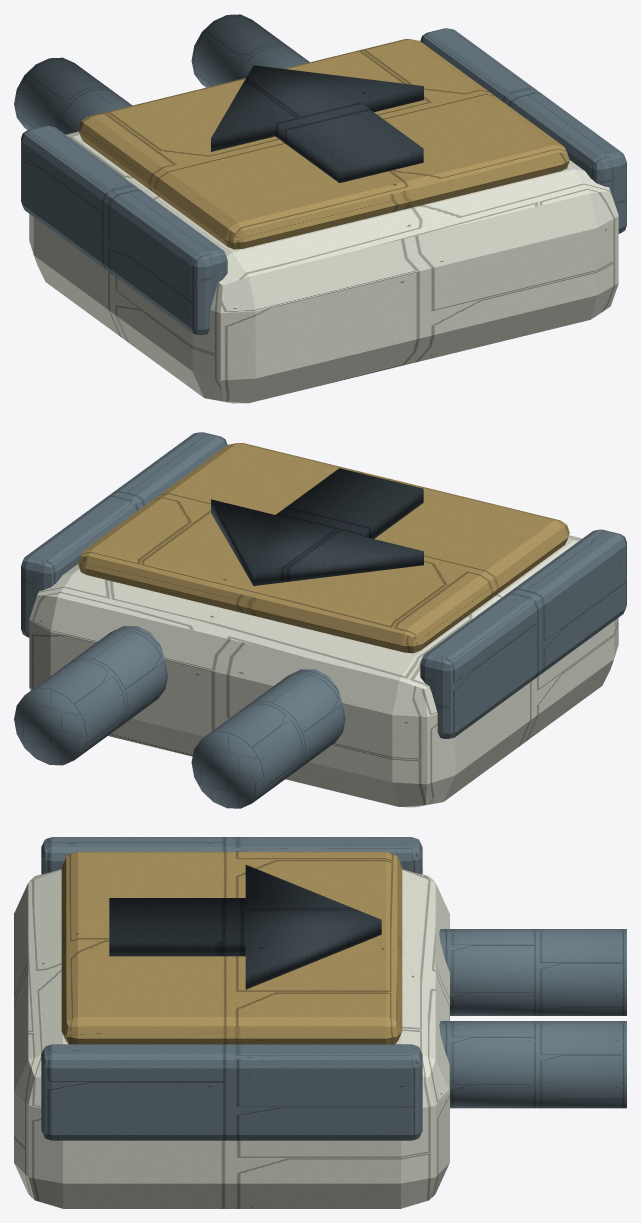
The model's file is power.glb.
The picture shows the model from 3 angles, top to bottom: view 1: azimuth 30°, elevation 25°; view 2: azimuth 150°, elevation 25°; view 3: azimuth 270°, elevation 25°; orthographic projection. The views are drawn at different scales.
Visible parts, largest first — view 1: core-ceramic-surfaces, core-brass-surfaces, core-titanium-surfaces, core-graphite-surfaces; view 2: core-ceramic-surfaces, core-titanium-surfaces, core-brass-surfaces, core-graphite-surfaces; view 3: core-titanium-surfaces, core-ceramic-surfaces, core-brass-surfaces, core-graphite-surfaces.
Boxes of the visible parts, left/top/right/bottom form: core-ceramic-surfaces: left=29, top=131, right=618, bottom=403; core-brass-surfaces: left=78, top=39, right=569, bottom=249; core-titanium-surfaces: left=14, top=14, right=626, bottom=335; core-graphite-surfaces: left=211, top=65, right=423, bottom=182; core-ceramic-surfaces: left=29, top=535, right=618, bottom=807; core-titanium-surfaces: left=14, top=432, right=626, bottom=808; core-brass-surfaces: left=78, top=443, right=569, bottom=653; core-graphite-surfaces: left=211, top=468, right=423, bottom=585; core-titanium-surfaces: left=41, top=837, right=626, bottom=1140; core-ceramic-surfaces: left=14, top=869, right=449, bottom=1208; core-brass-surfaces: left=61, top=851, right=402, bottom=1044; core-graphite-surfaces: left=109, top=865, right=381, bottom=989.
Size of the model in its own units: 1.96 by 0.805 by 2.25.
Materials: 4 (4 with a texture image).
